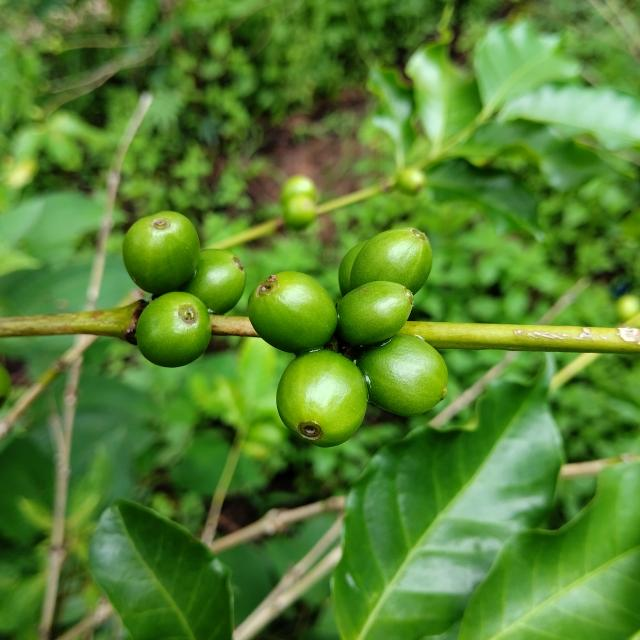green: (276, 349, 368, 448), (248, 271, 338, 354), (357, 334, 448, 416), (122, 211, 200, 295), (135, 292, 211, 368), (350, 227, 433, 294), (337, 281, 414, 346), (178, 249, 246, 315), (339, 240, 369, 296)
